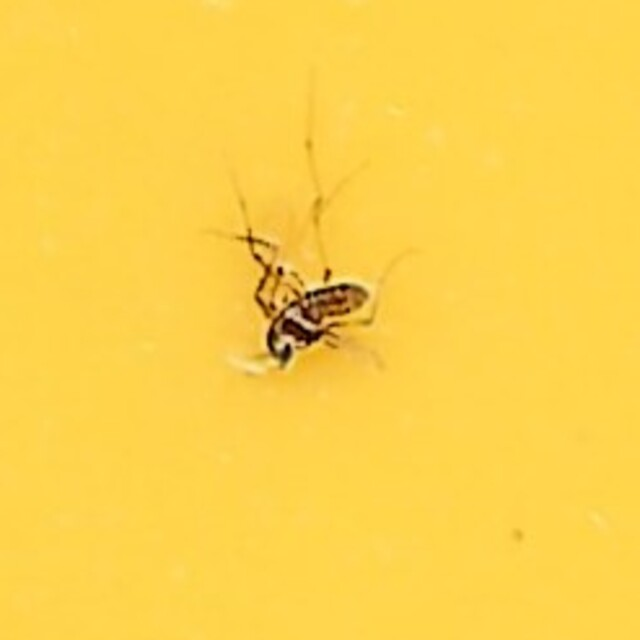Nematocera: (259, 272, 381, 368)
